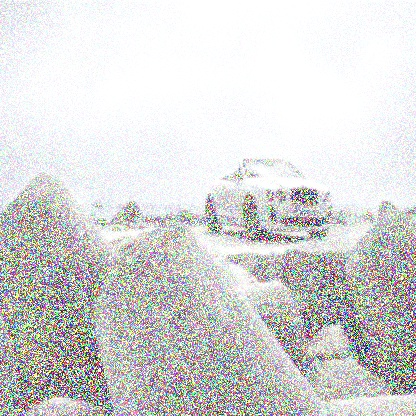Vehicle: (204, 157, 332, 242)
